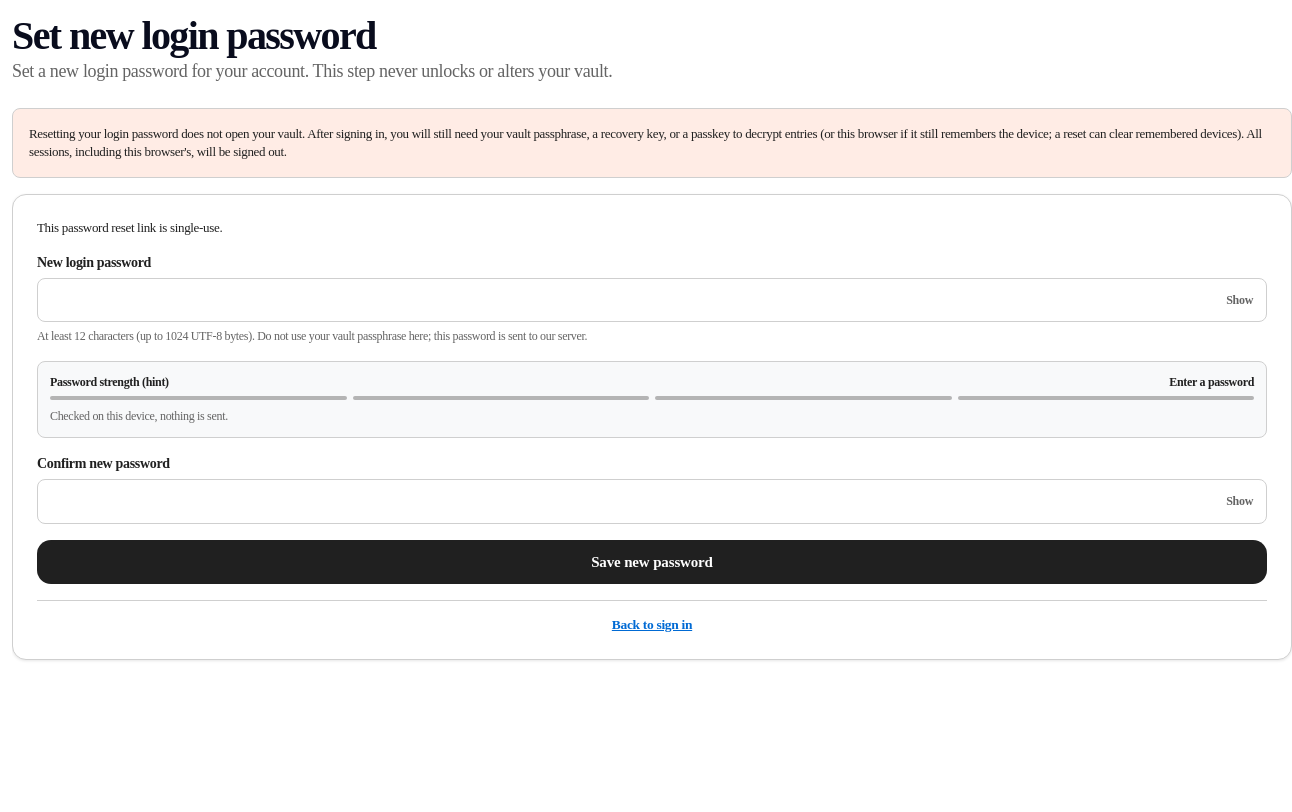
it: ResetPasswordForm token lifecycle, strict mode, and problem-code mapping (ADR 0006 §6.1-6.2, §9.2) › on 204: bounds hung bootstrapCsrf at 1500ms and navigates via location.assign (AU4-FE2-7)
This screenshot has width=1292, height=812.
Type "StrongReplacementPassword!2026" into the password field labelled "New login password" at (652, 300), box top-left (37, 278), bottom-right (1267, 322)
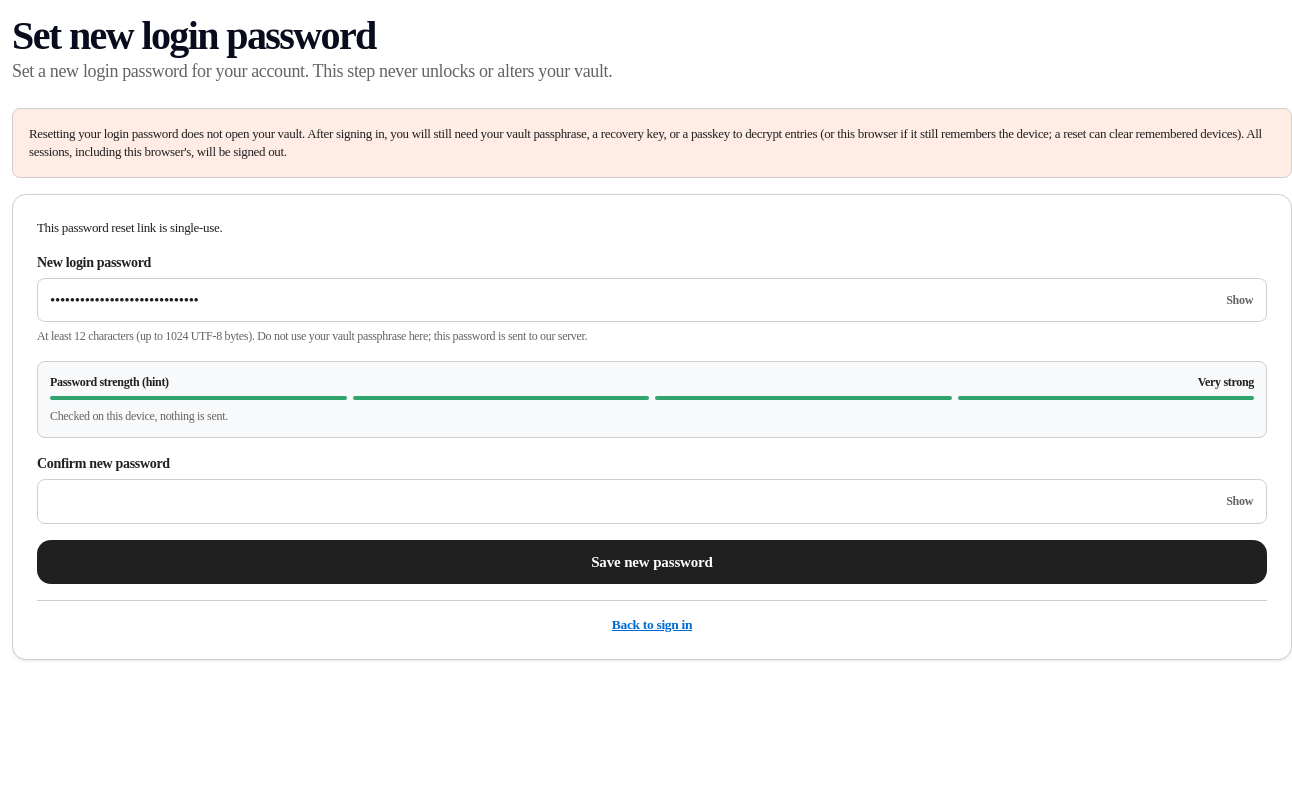
Type "StrongReplacementPassword!2026" into the password field labelled "Confirm new password" at (652, 502), box top-left (37, 479), bottom-right (1267, 524)
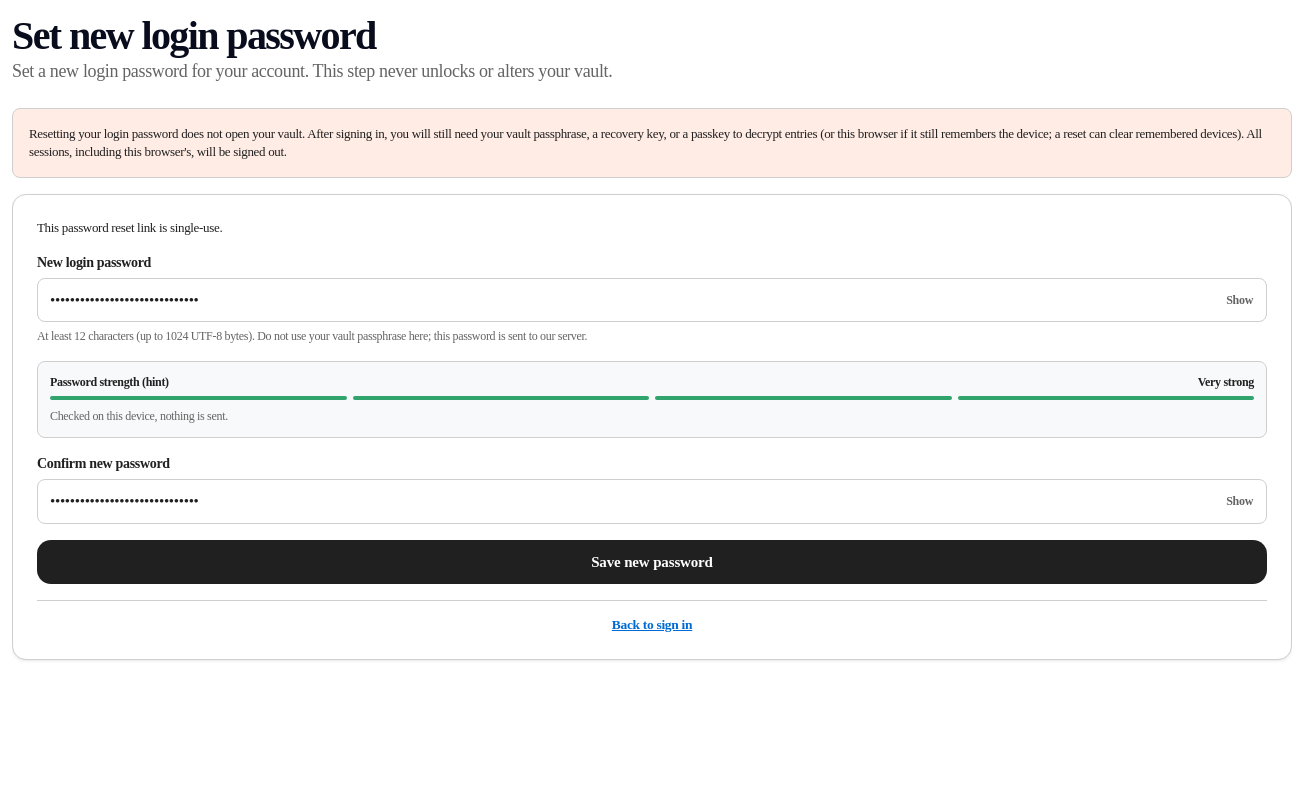
Submit the form labelled "New login password", box top-left (12, 194), bottom-right (1291, 660)
Wait 1500 ms
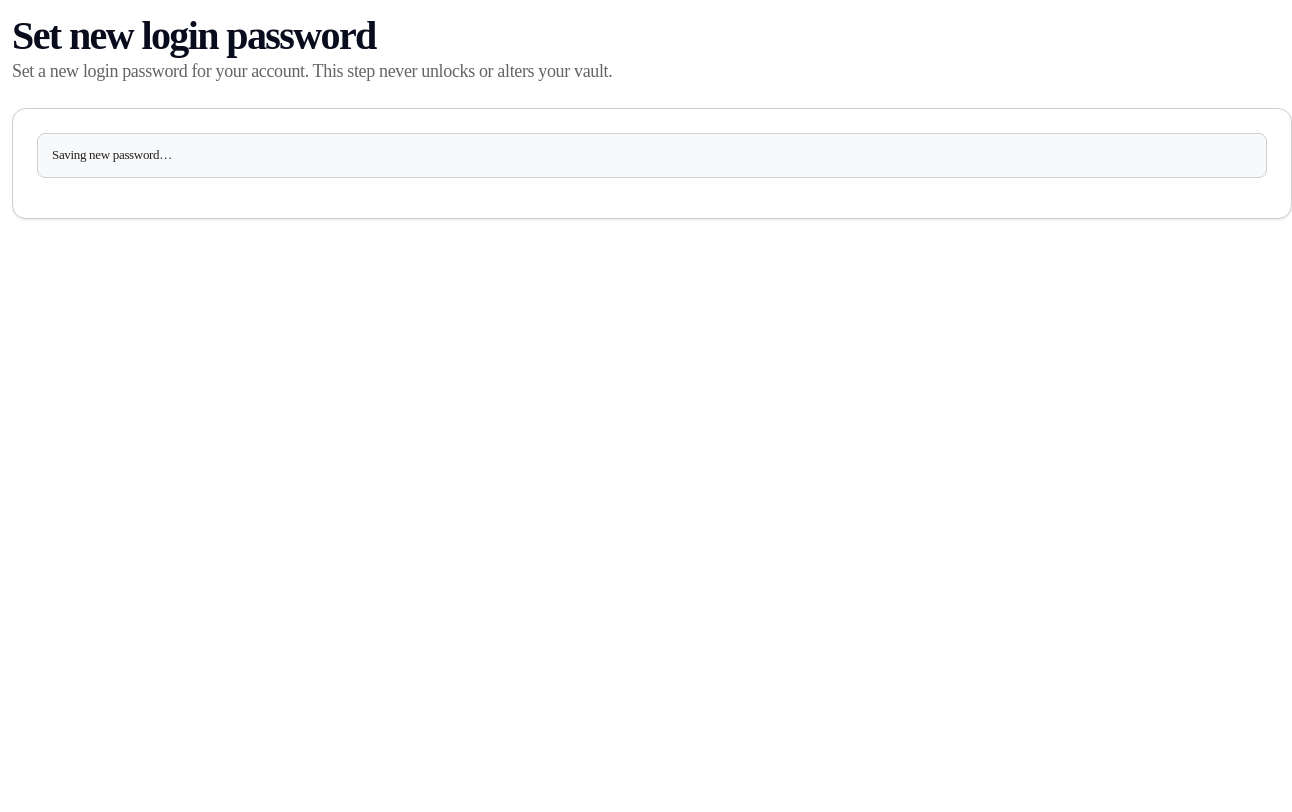
Result: the element with test id "reset-completed-redirecting" is shown at top-left (12, 108), bottom-right (1291, 219)
